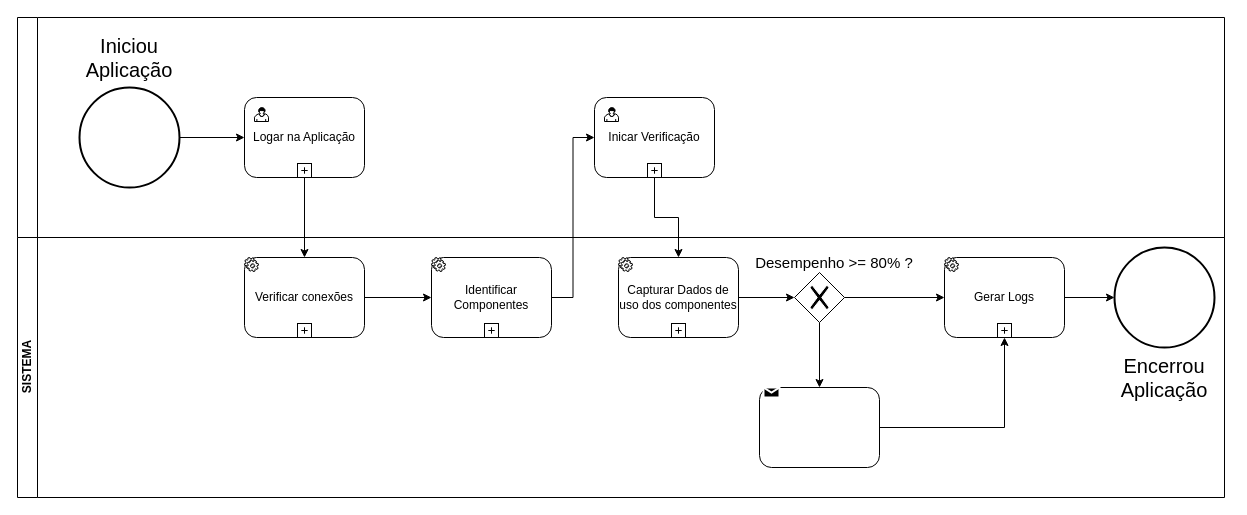
The diagram is 1247 pixels wide and 515 high, and some of its shapes have lost their labels. The shapes that lost their labels are listed below. From the top down, each one's centre as x and y in pixels, then its label:
At (x=620, y=127): "USUARIO".
At (x=819, y=427): "Disparar Mensagem Alerta Baixo Desempenho".
